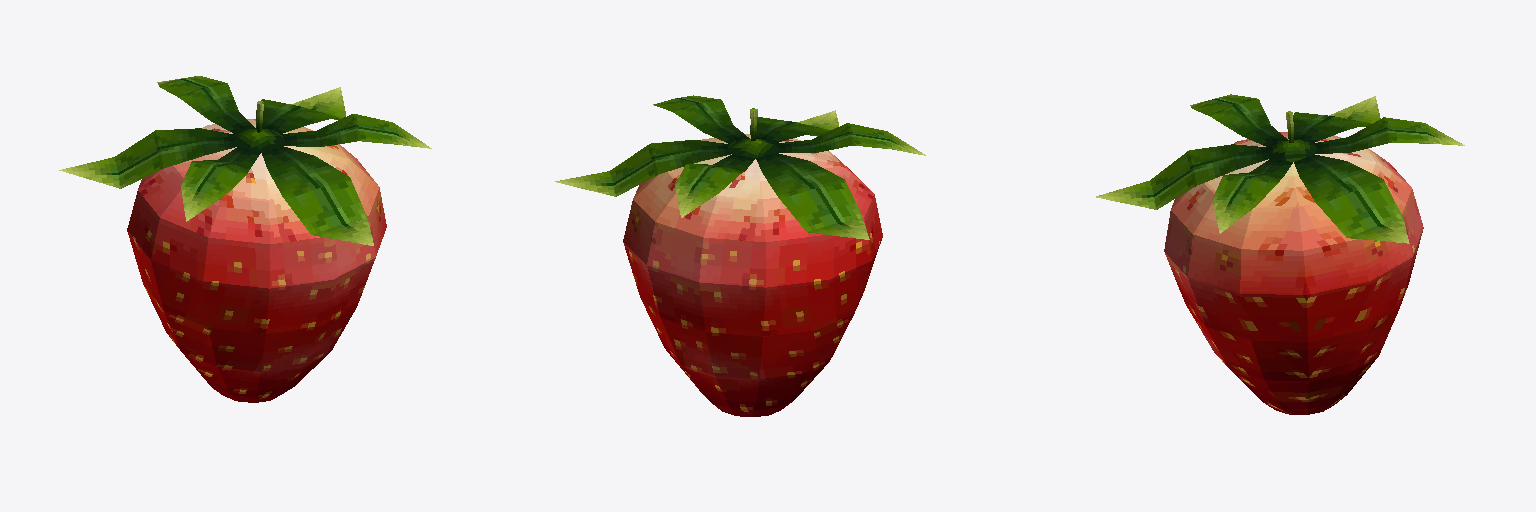
3 renders of one model, left to right at view 1: azimuth 30°, elevation 25°; view 2: azimuth 150°, elevation 25°; view 3: azimuth 270°, elevation 25°, orthographic.
Visible parts, largest first — view 1: Inst3D30_RefRep.227; view 2: Inst3D30_RefRep.227; view 3: Inst3D30_RefRep.227.
Boxes of the visible parts, x1,y1,x2,y2 form: Inst3D30_RefRep.227: [59, 76, 431, 402]; Inst3D30_RefRep.227: [555, 95, 925, 416]; Inst3D30_RefRep.227: [1096, 94, 1464, 414].
Bounding box in the file's own units: 3.45 × 3.26 × 3.72.
1 materials, 1 textured.